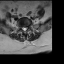CCS_normal: (23, 25, 25, 32)
LFS_severe_stenosis: (27, 25, 29, 29)
LLS_normal: (25, 26, 27, 31)
RFS_stenosis: (20, 25, 22, 30)
RLS_normal: (22, 25, 23, 31)
